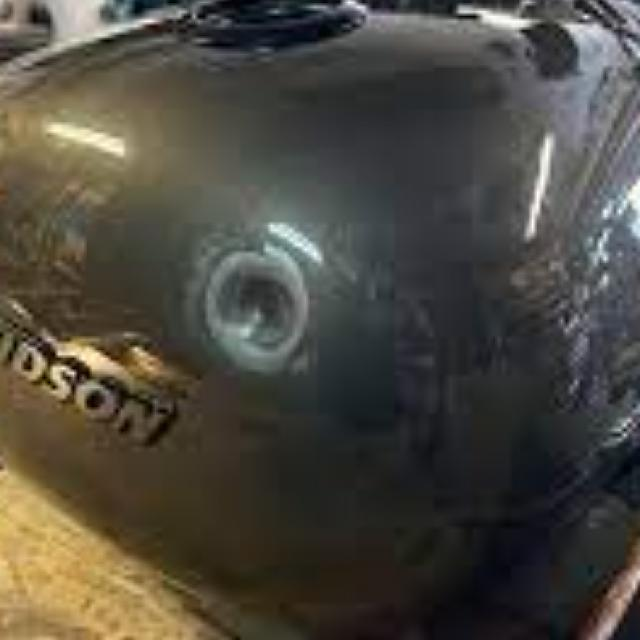dents: (183, 222, 359, 396)
